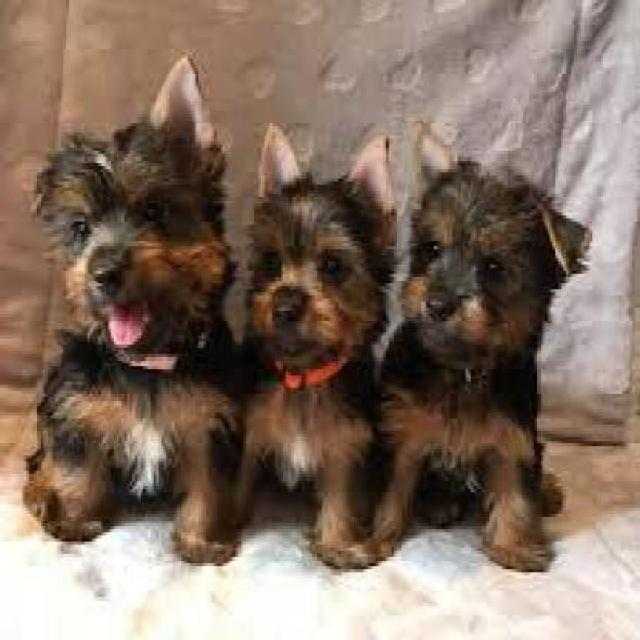animals: (30, 41, 236, 584), (224, 33, 416, 545), (389, 100, 594, 577)
